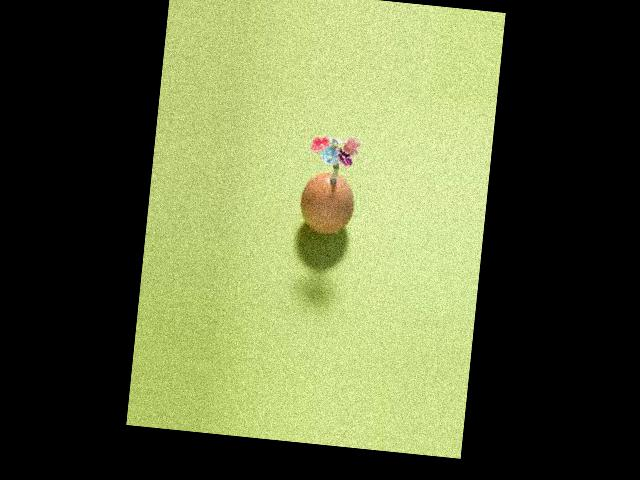egg: (298, 171, 357, 237)
